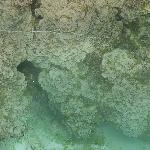dead: (6, 1, 147, 147)
